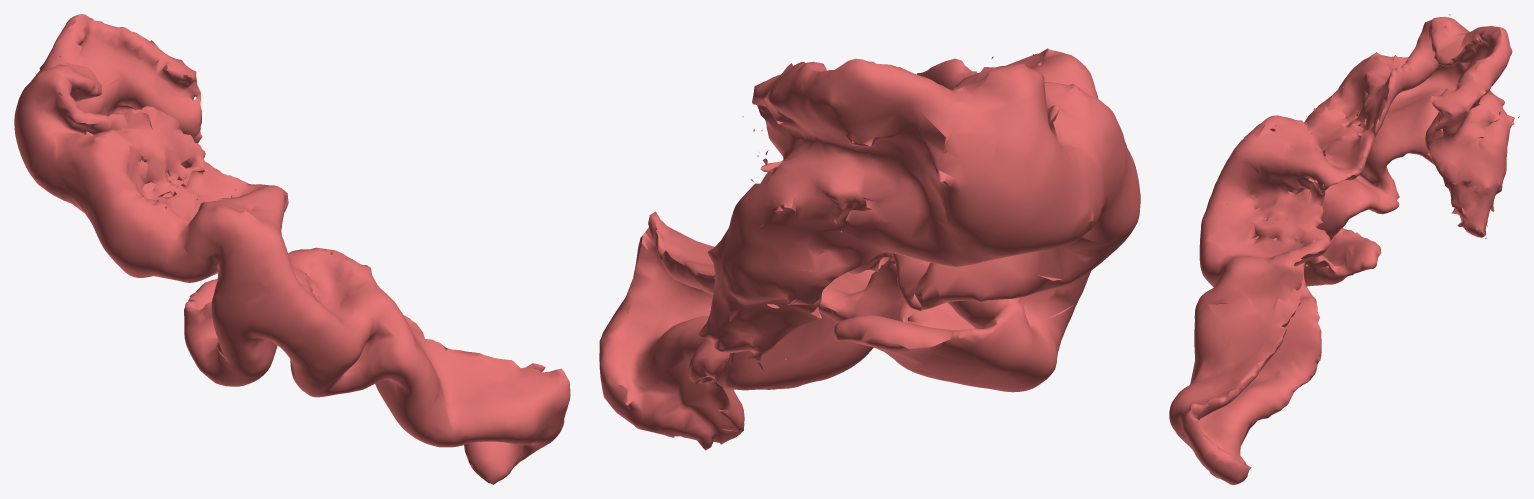
The model's file is spl-1022.glb.
3 renders of one model, left to right at view 1: azimuth 30°, elevation 25°; view 2: azimuth 150°, elevation 25°; view 3: azimuth 270°, elevation 25°, orthographic. The views are drawn at different scales.
Parts seen in each view (by area): view 1: spl-1022; view 2: spl-1022; view 3: spl-1022.
Boxes of the visible parts, box(x1,y1,x2,y2) form: spl-1022: box(14, 14, 570, 484); spl-1022: box(599, 48, 1140, 450); spl-1022: box(1169, 14, 1519, 484).
Bounding box in the file's own units: 63.95 × 61.62 × 56.45.
